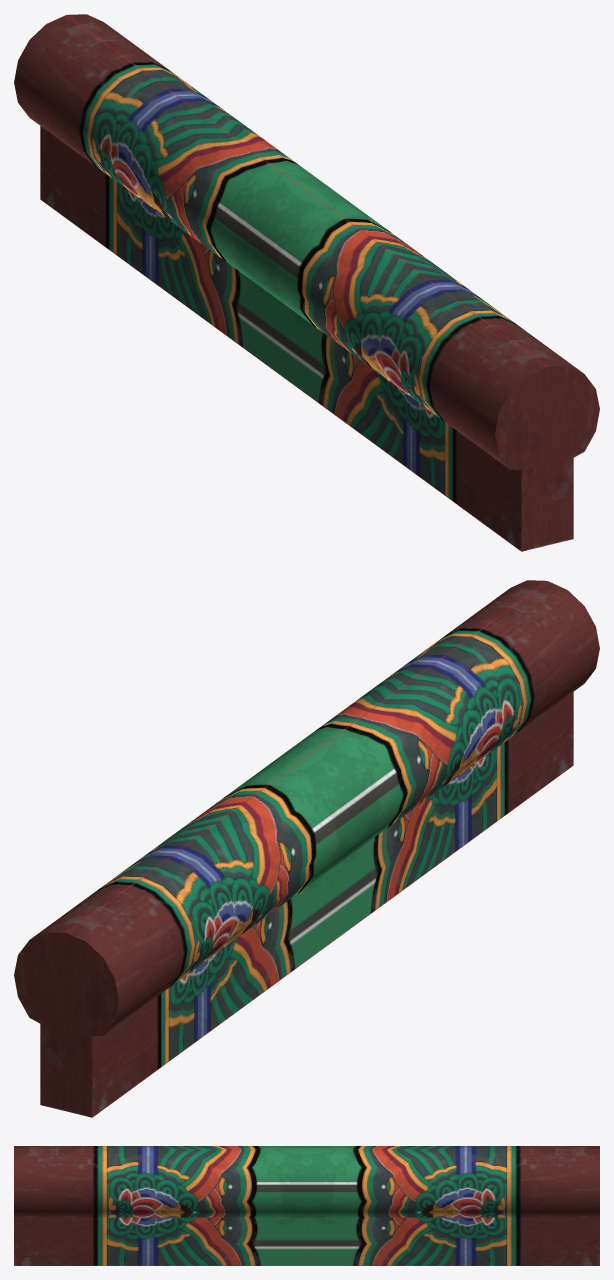
The model's file is SM_Purlin01h.fbx.
3 renders of one model, top to bottom at view 1: azimuth 30°, elevation 25°; view 2: azimuth 150°, elevation 25°; view 3: azimuth 270°, elevation 25°, orthographic. The views are drawn at different scales.
Parts seen in each view (by area): view 1: SM_Purlin01h; view 2: SM_Purlin01h; view 3: SM_Purlin01h.
Part boxes in pixels (left/top/right/bottom): SM_Purlin01h: left=14, top=14, right=599, bottom=551; SM_Purlin01h: left=14, top=580, right=599, bottom=1117; SM_Purlin01h: left=14, top=1146, right=599, bottom=1265.
Bounding box in the file's own units: 20.15 × 160 × 32.73.
Materials: 1 (1 with a texture image).
